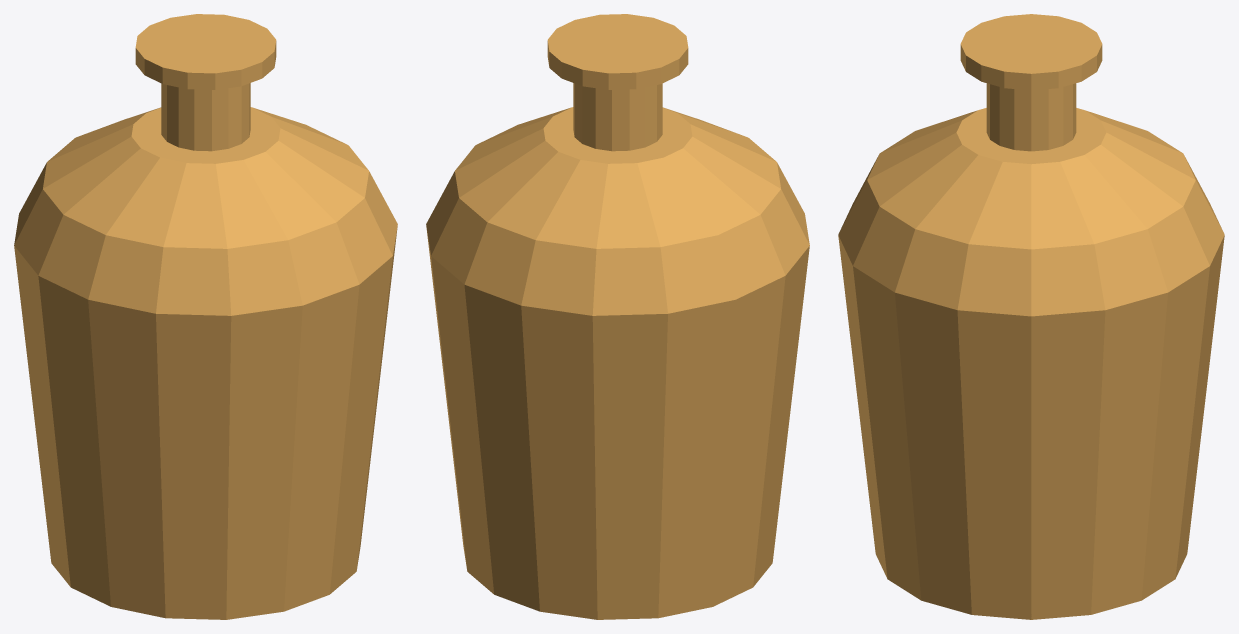
File: Flask.fbx
The picture shows the model from 3 angles, left to right: view 1: azimuth 30°, elevation 25°; view 2: azimuth 150°, elevation 25°; view 3: azimuth 270°, elevation 25°; orthographic projection.
Parts seen in each view (by area): view 1: Bottle; view 2: Bottle; view 3: Bottle.
Boxes of the visible parts, box(x1,y1,x2,y2) form: Bottle: box(14, 14, 397, 619); Bottle: box(426, 14, 809, 619); Bottle: box(838, 14, 1224, 619).
Bounding box in the file's own units: 248 × 361 × 248.
